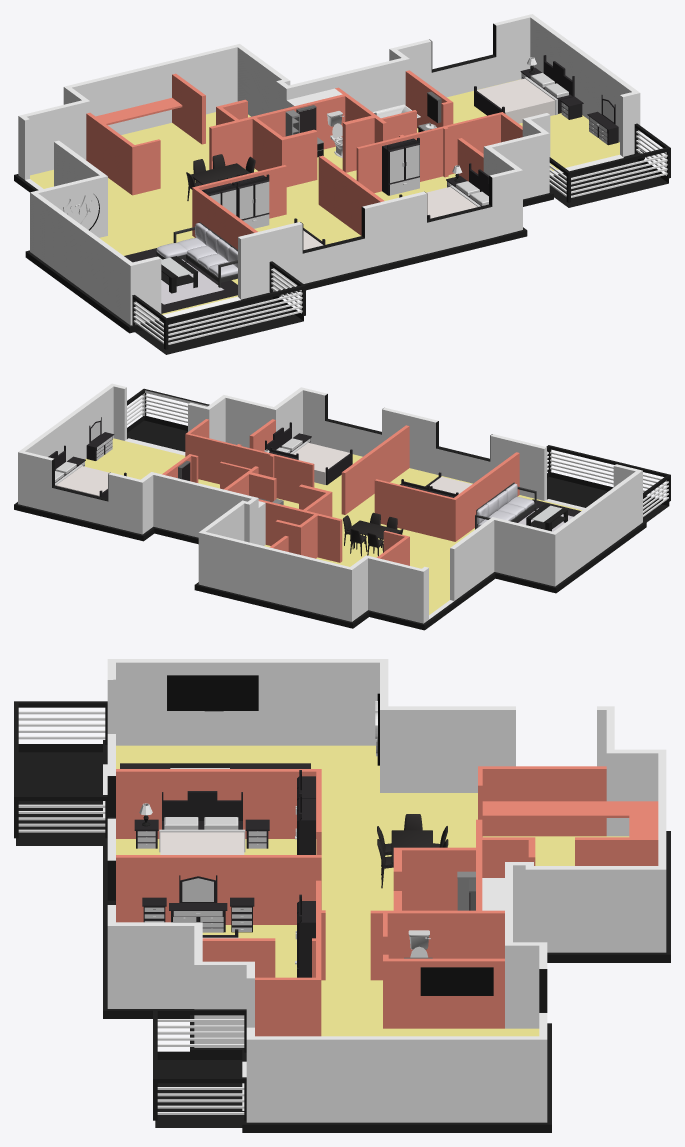
File: interior_2.gltf
3 renders of one model, top to bottom at view 1: azimuth 30°, elevation 25°; view 2: azimuth 150°, elevation 25°; view 3: azimuth 270°, elevation 25°, orthographic. The views are drawn at different scales.
Parts seen in each view (by area): view 1: INTERIOR, bed.002_Cube.003_Cube.003, sofa_SOFA_JOYSTYLE_Cube, rug_Plane, cupboard_Cube.004_Cube.001, bed.002_Cube.003_Cube.002, cupboard_Cube.004_Cube.005, bedroom_table.001_Cube.005_Cube.002, Plane, Cube.011, sink, Table_AO (+3 smaller); view 2: INTERIOR, bed.002_Cube.003_Cube.002, bed.002_Cube.003_Cube.003, sofa_SOFA_JOYSTYLE_Cube, Cube.011, bedroom_table.001_Cube.005_Cube.002, bed.002_Cube.003_Cube.001, Table_AO, rug_Plane; view 3: INTERIOR, bed.002_Cube.003_Cube.001, Plane, tv, bedroom_table.001_Cube.005_Cube.001, tv.001, cupboard_Cube.004_Cube.001, cupboard_Cube.004_Cube.005, side_table.001_Cube.006_Cube.003, Table_AO, rug_Plane, sink (+1 smaller).
Part boxes in pixels (bbox=[...]): INTERIOR: bbox=[14, 14, 670, 354]; bed.002_Cube.003_Cube.003: bbox=[474, 55, 574, 123]; sofa_SOFA_JOYSTYLE_Cube: bbox=[156, 222, 237, 287]; rug_Plane: bbox=[124, 248, 237, 313]; cupboard_Cube.004_Cube.001: bbox=[382, 137, 419, 195]; bed.002_Cube.003_Cube.002: bbox=[399, 163, 488, 219]; cupboard_Cube.004_Cube.005: bbox=[231, 174, 269, 228]; bedroom_table.001_Cube.005_Cube.002: bbox=[587, 95, 618, 145]; Plane: bbox=[96, 98, 182, 125]; Cube.011: bbox=[161, 256, 197, 293]; sink: bbox=[285, 105, 323, 157]; Table_AO: bbox=[191, 163, 250, 184]; INTERIOR: bbox=[14, 383, 670, 630]; bed.002_Cube.003_Cube.002: bbox=[265, 422, 352, 484]; bed.002_Cube.003_Cube.003: bbox=[48, 445, 126, 498]; sofa_SOFA_JOYSTYLE_Cube: bbox=[475, 482, 536, 529]; Cube.011: bbox=[526, 504, 567, 531]; bedroom_table.001_Cube.005_Cube.002: bbox=[86, 417, 114, 460]; bed.002_Cube.003_Cube.001: bbox=[425, 472, 471, 493]; Table_AO: bbox=[347, 520, 399, 549]; rug_Plane: bbox=[515, 499, 580, 531]; INTERIOR: bbox=[14, 659, 670, 1132]; bed.002_Cube.003_Cube.001: bbox=[159, 791, 245, 854]; Plane: bbox=[482, 801, 658, 837]; tv: bbox=[167, 675, 258, 711]; bedroom_table.001_Cube.005_Cube.001: bbox=[169, 875, 227, 932]; tv.001: bbox=[420, 967, 493, 995]; cupboard_Cube.004_Cube.001: bbox=[295, 894, 315, 977]; cupboard_Cube.004_Cube.005: bbox=[295, 792, 315, 854]; side_table.001_Cube.006_Cube.003: bbox=[230, 897, 254, 932]; Table_AO: bbox=[391, 830, 432, 863]; rug_Plane: bbox=[120, 763, 310, 768]; sink: bbox=[457, 871, 475, 910].
Size of the model in its own units: 24.55 by 2.72 by 17.73.
